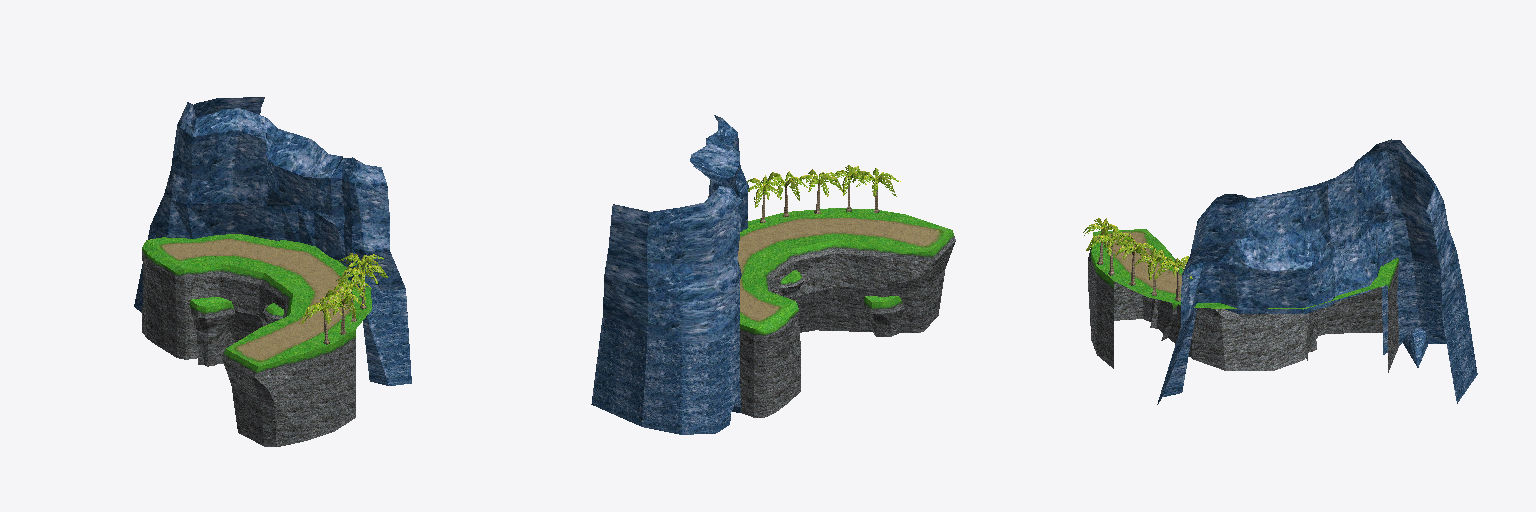
3 views of the same model, side by side, from view 1: azimuth 30°, elevation 25°; view 2: azimuth 150°, elevation 25°; view 3: azimuth 270°, elevation 25° (orthographic).
Parts seen in each view (by area): view 1: object_305B590.002, object_304F1E8.002, object_305027C.002, object_30B3FD4.002; view 2: object_305B590.002, object_304F1E8.002, object_304FA24.002, object_30B3ED0.002; view 3: object_305B590.002, object_304F1E8.002.
Boxes of the visible parts, box(x1,y1,x2,y2) form: object_305B590.002: box(134, 97, 411, 385); object_304F1E8.002: box(142, 234, 371, 446); object_305027C.002: box(190, 297, 235, 366); object_30B3FD4.002: box(301, 297, 346, 344); object_305B590.002: box(591, 115, 748, 434); object_304F1E8.002: box(738, 208, 955, 417); object_304FA24.002: box(863, 296, 904, 336); object_30B3ED0.002: box(793, 169, 842, 213); object_305B590.002: box(1157, 139, 1477, 404); object_304F1E8.002: box(1088, 229, 1399, 372).
Bounding box in the file's own units: 26.62 × 28.55 × 45.33.
Materials: 22 (11 with a texture image).